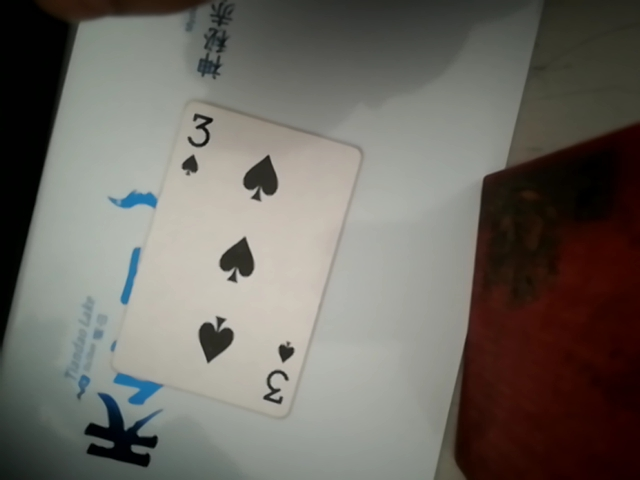ht 3: (120, 85, 351, 414)
